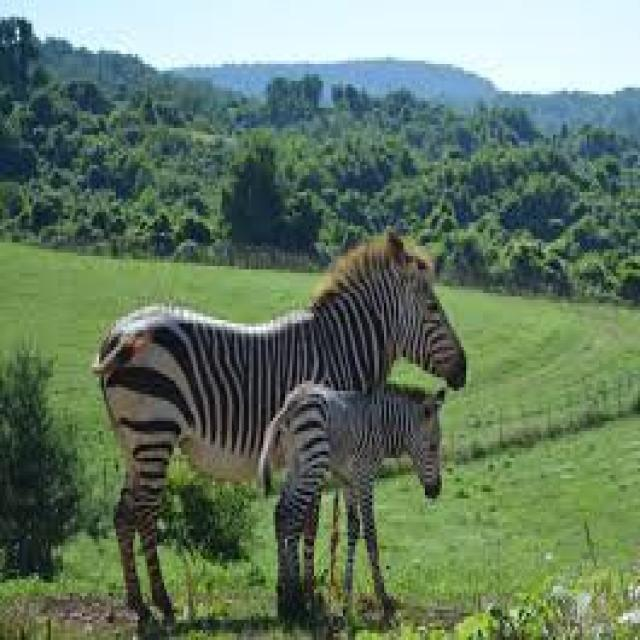Zebra: (101, 232, 472, 628), (265, 381, 445, 625)
